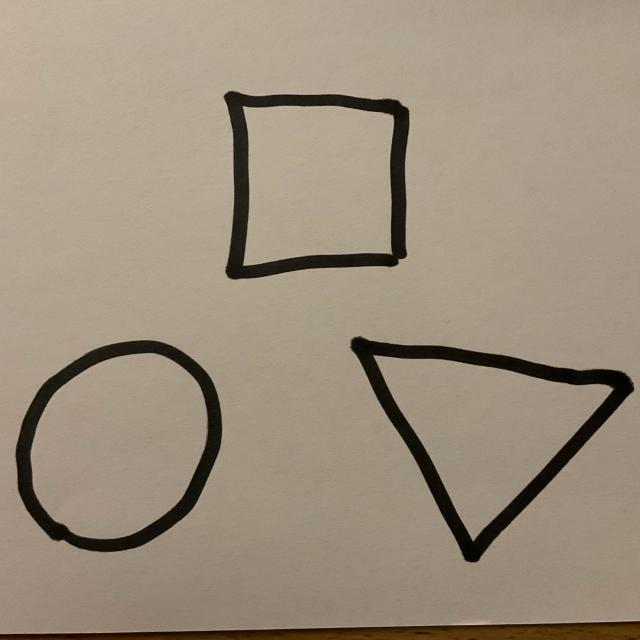Dreieck: (349, 338, 636, 564)
Kreis: (14, 341, 224, 554)
Quadrat: (223, 91, 411, 282)
